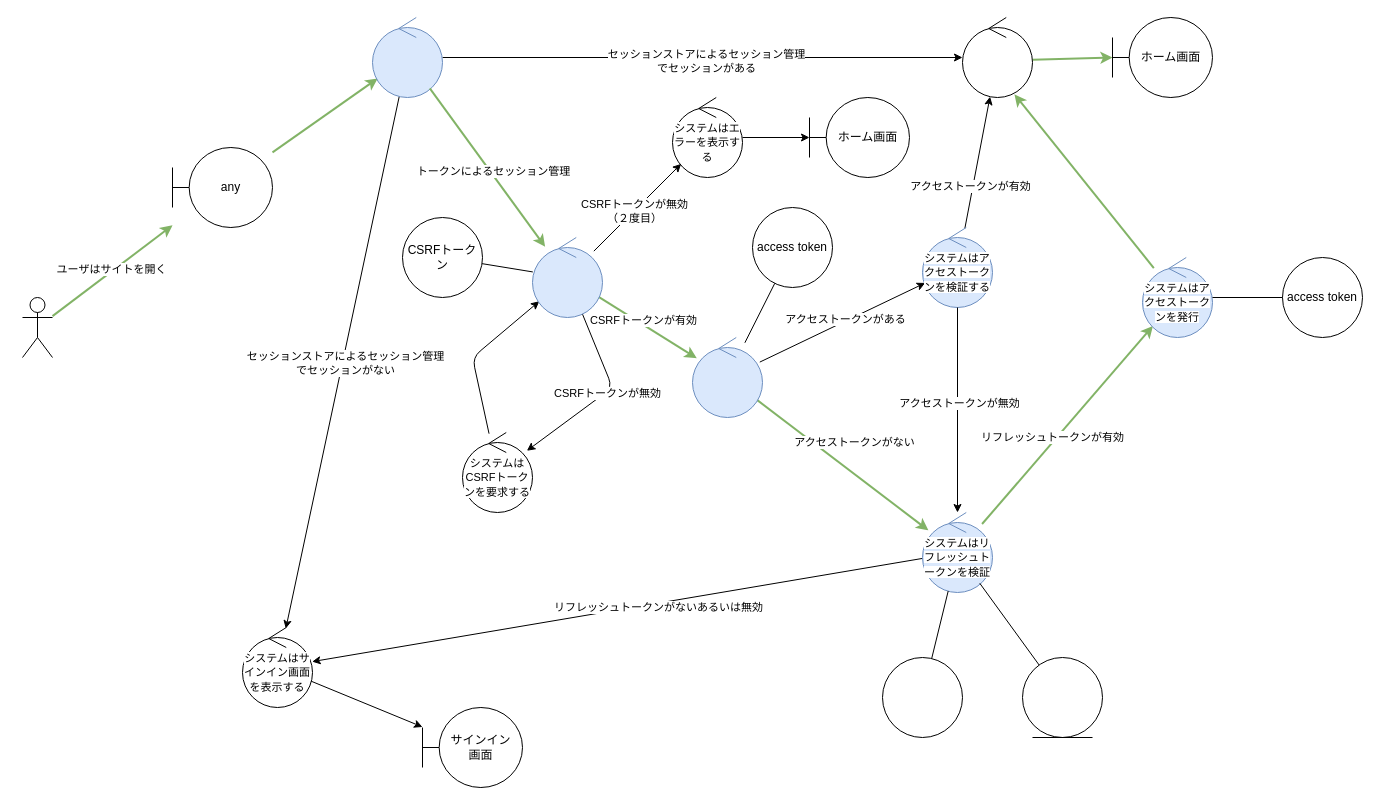
Image size: 1380x805. Some labels were removed from this diagram. The shapes that lost their labels are listed below. From the top down, each one's centre as x and y in pixels, then its label:
At pixel 407 57: "システムはサインインセッションを確認する".
At pixel 997 57: "システムはホームが画面を表示する".
At pixel 567 277: "システムはCSRFトークンを検証".
At pixel 37 327: "Nobody".
At pixel 727 377: "システムはアクセストークンを確認する".
At pixel 922 697: "reflesh token".
At pixel 1062 697: "User".
